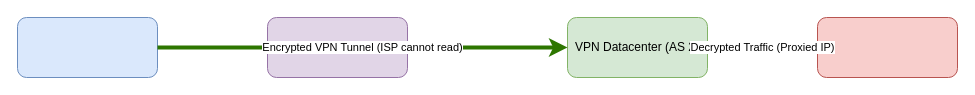
This 975x95 diagram has some shape labels left out. Here are the shapes that lost their labels. From the top down, the centre of each, then its label:
At [87,47]: "User Phone (VPN Client)".
At [887,47]: "Target Server (Netflix)".
